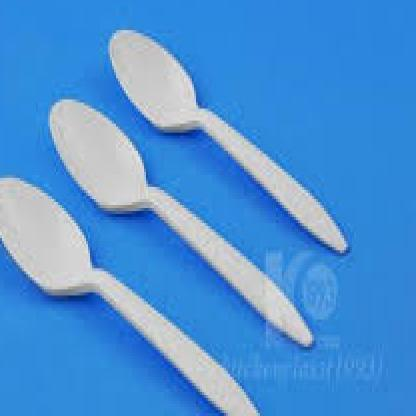Others: (0, 31, 350, 414)
